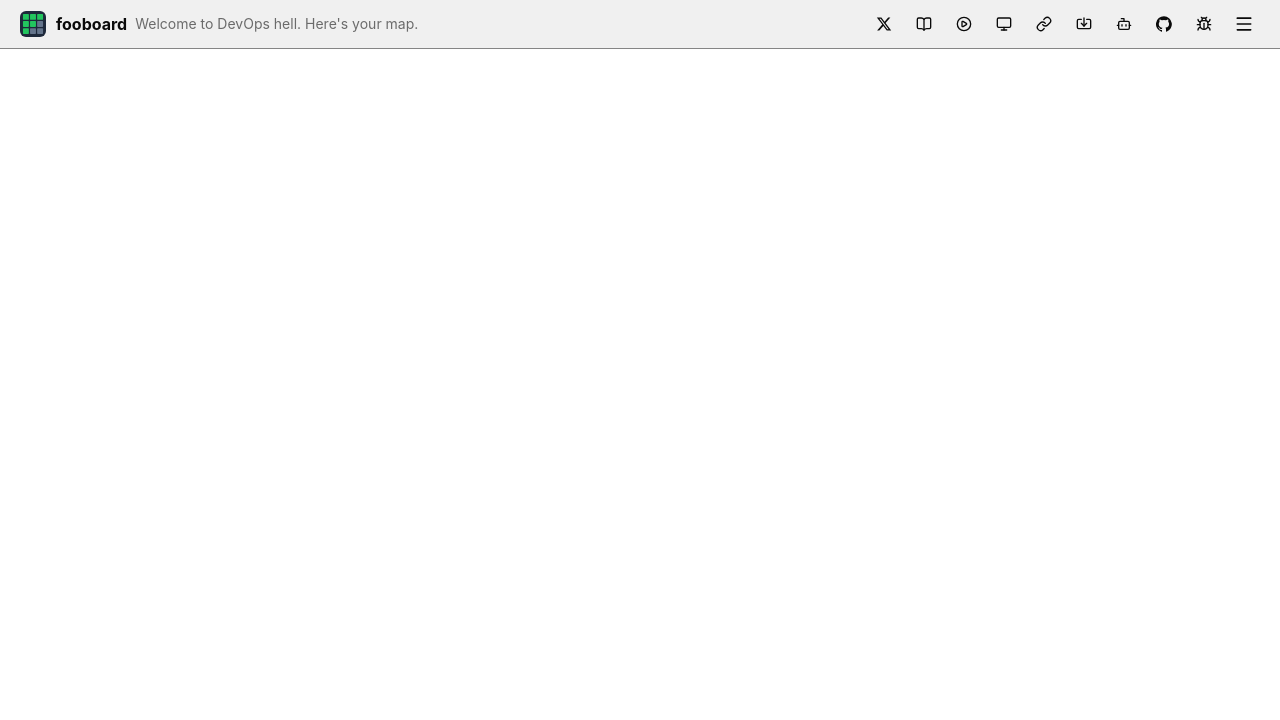
Test case: Header › opens Import in its dialog
Click the button named "Import" at x=1084, y=24, box [1068, 8, 1100, 40]
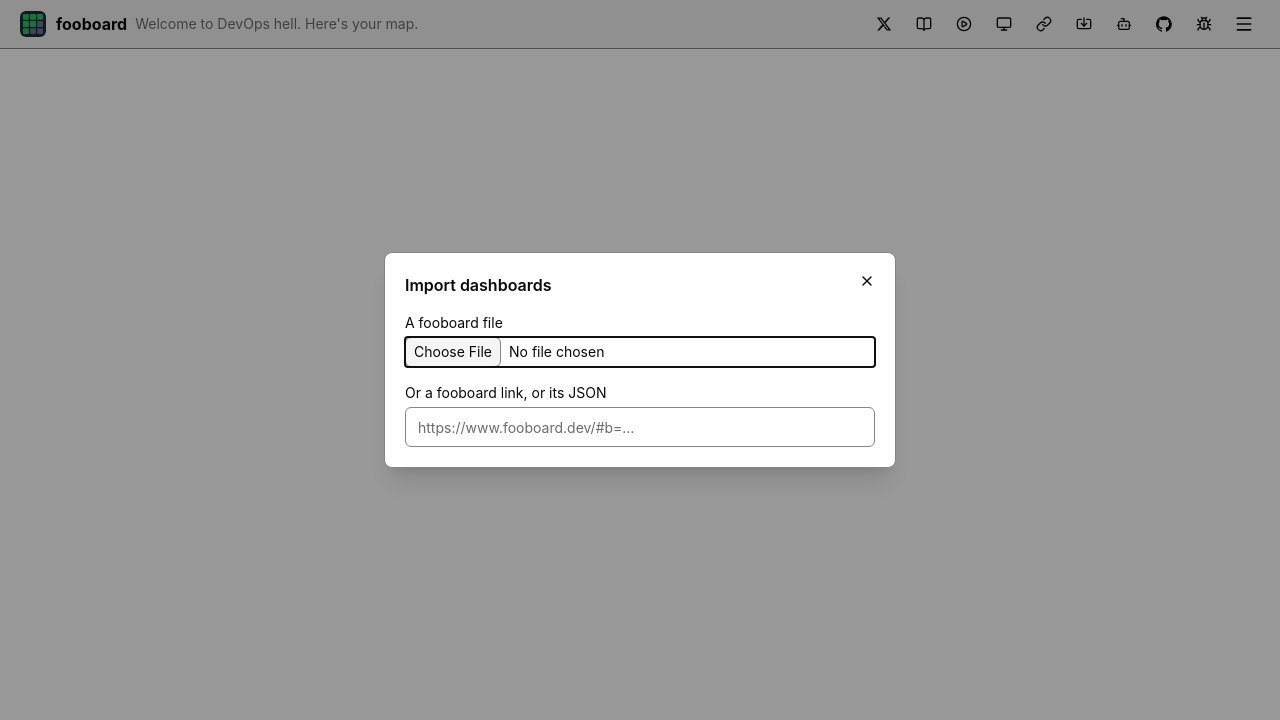
Expected: the dialog "Import dashboards" is shown, [384, 252, 896, 468]
